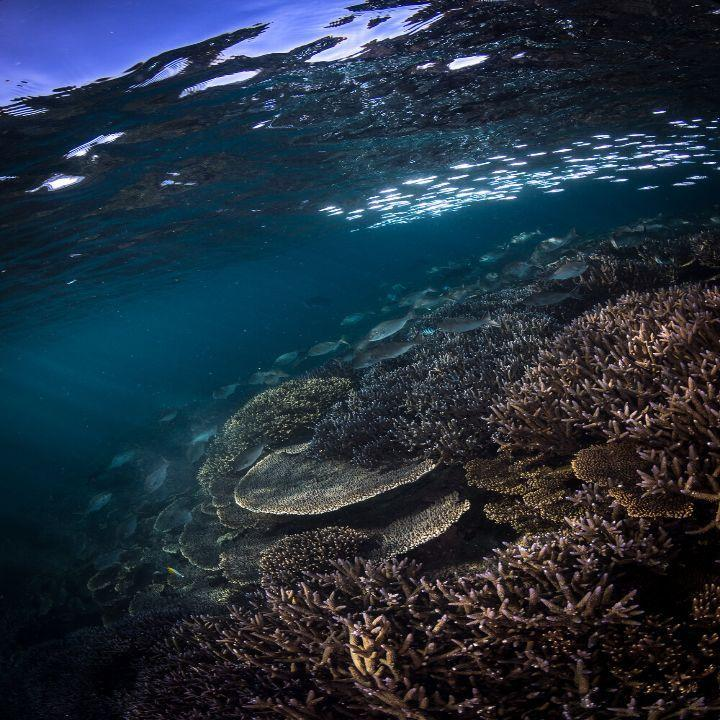Healthy Coral: (117, 240, 716, 717)
